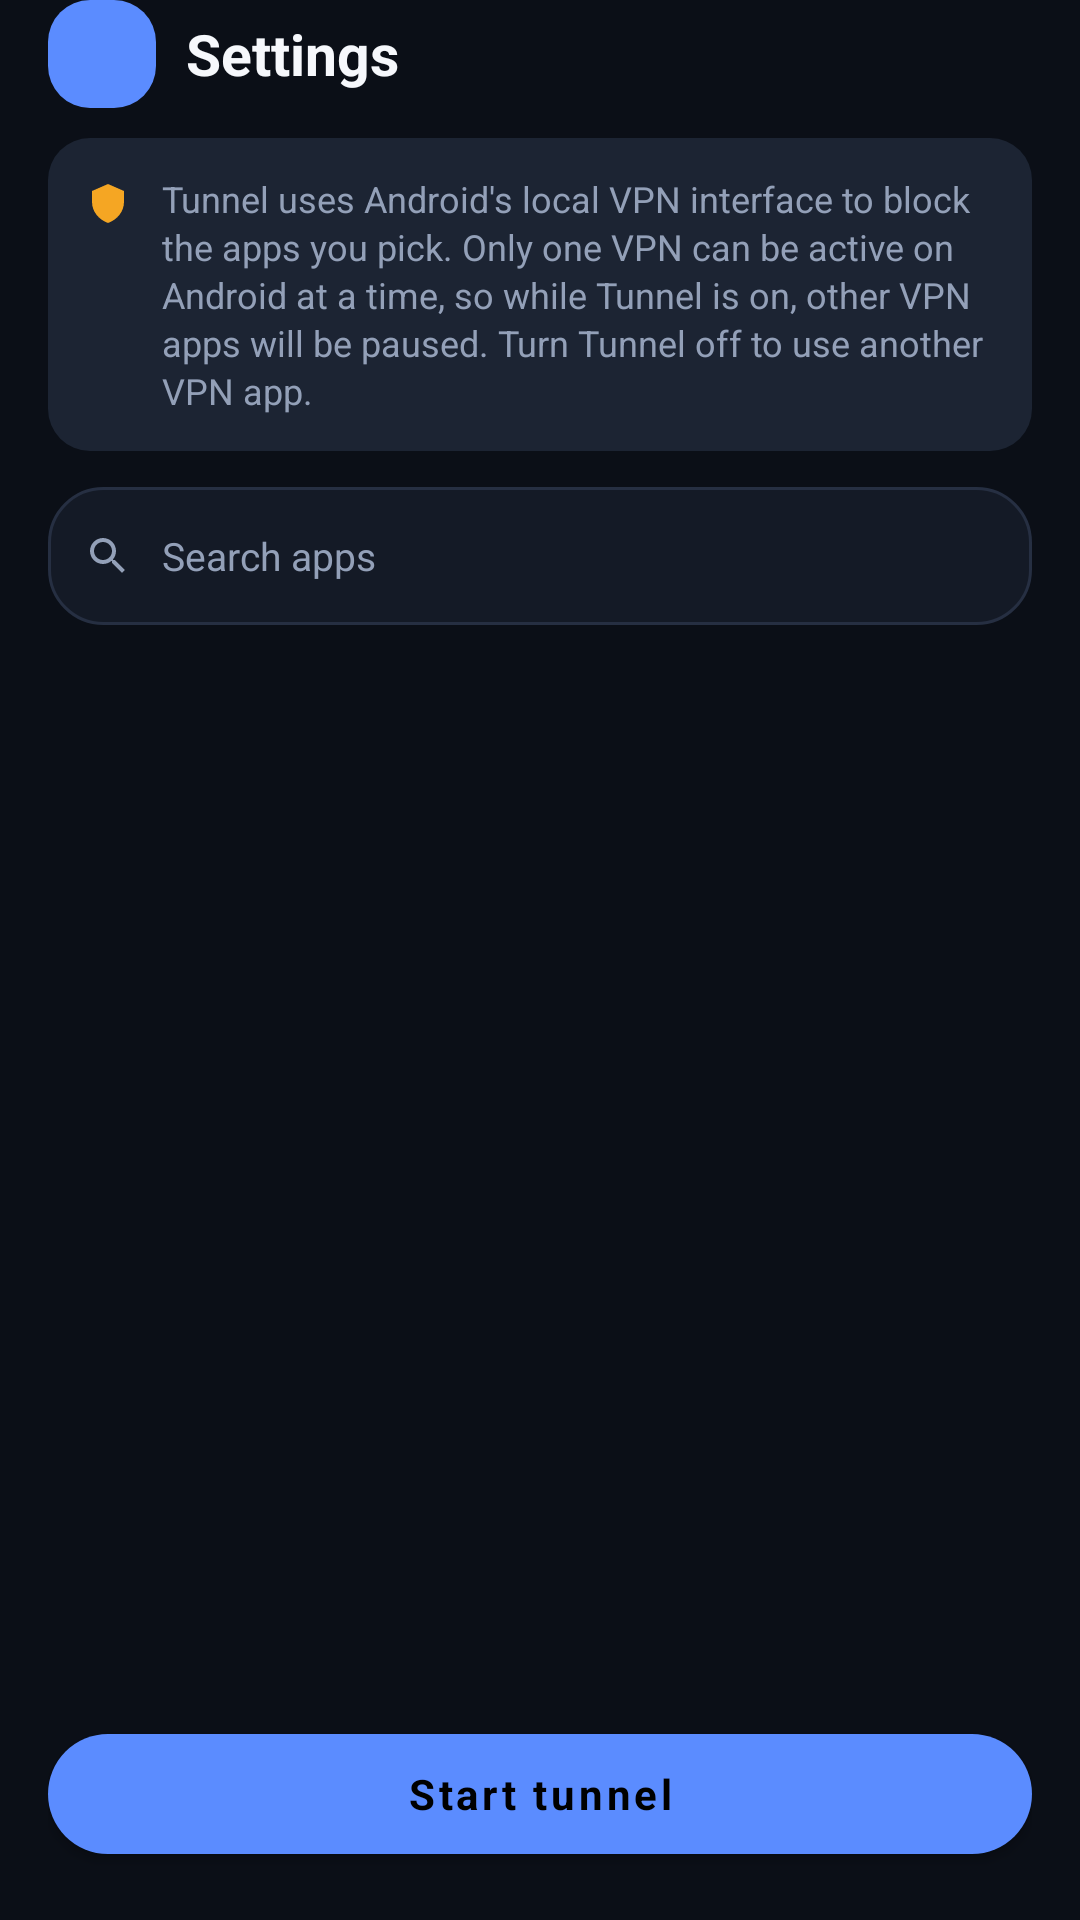

Where icons sit on this 1080w x 1920h app screen, as (x1, y1, x2, y2):
shield: (92, 184, 124, 223)
